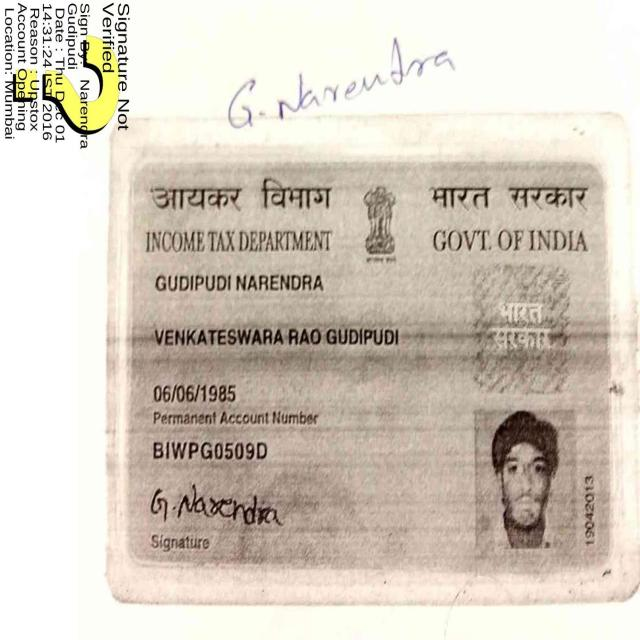pan_card: (132, 163, 614, 570)
